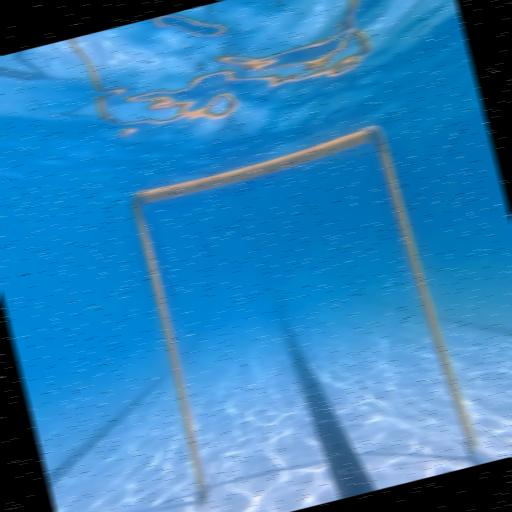gate: (118, 112, 506, 512)
